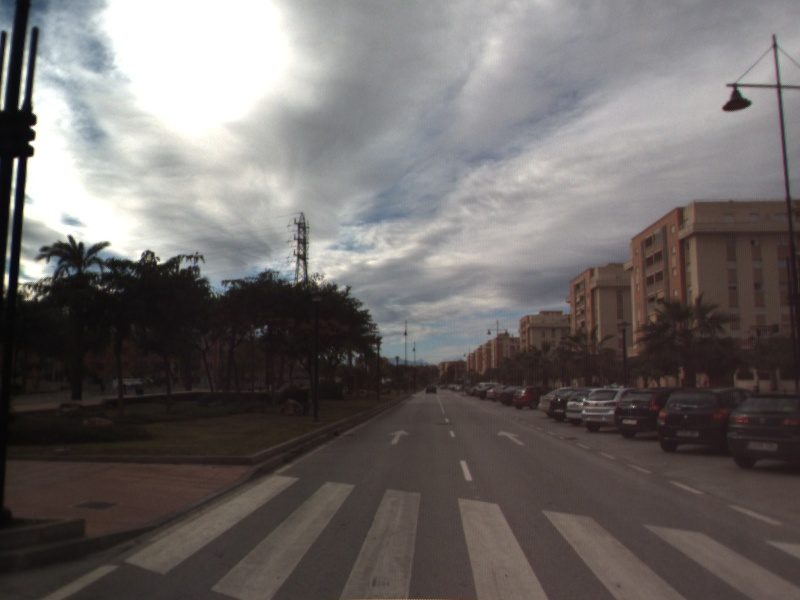STRAIGHT: (495, 428, 527, 447), (387, 428, 412, 446)
